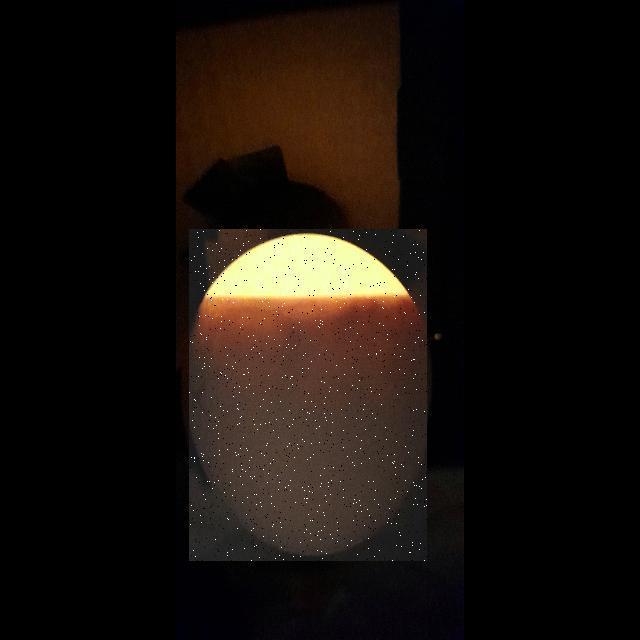Fertile: (189, 229, 427, 561)
